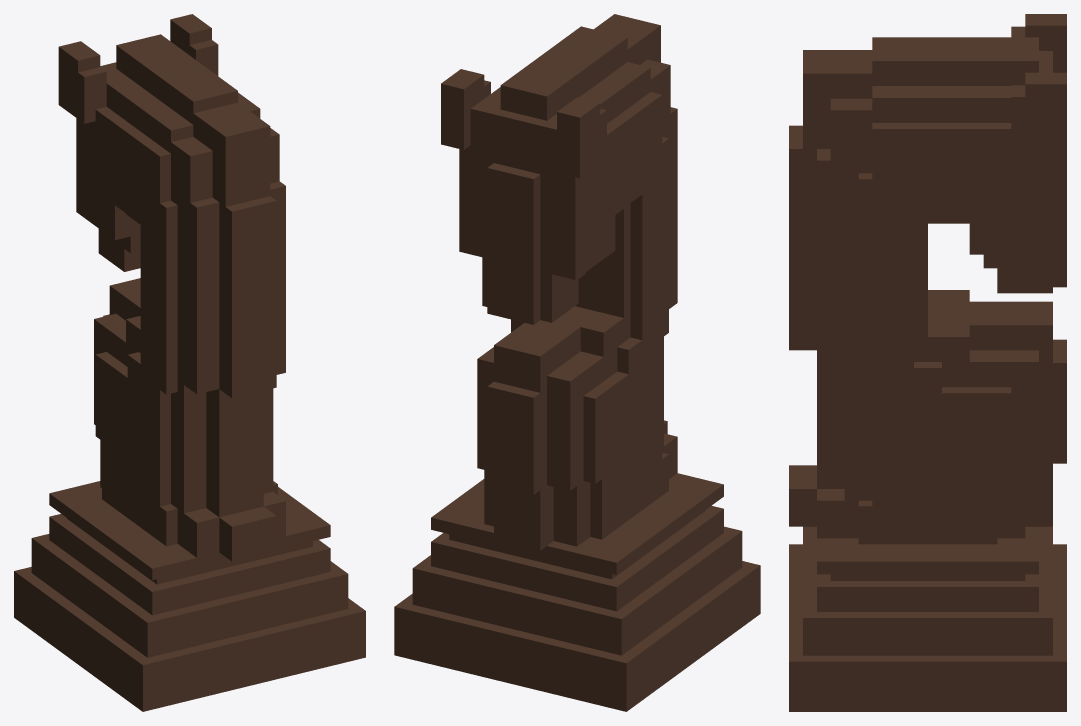
The model's file is black_knight.glb.
3 views of the same model, side by side, from view 1: azimuth 30°, elevation 25°; view 2: azimuth 150°, elevation 25°; view 3: azimuth 270°, elevation 25° (orthographic). The views are drawn at different scales.
Visible parts, largest first — view 1: Untitled; view 2: Untitled; view 3: Untitled.
Boxes of the visible parts, x1,y1,x2,y2 form: Untitled: [14, 14, 365, 711]; Untitled: [394, 14, 760, 711]; Untitled: [789, 14, 1066, 711].
Bounding box in the file's own units: 0.6 × 1.44 × 0.6.
Materials: 1 (1 with a texture image).
